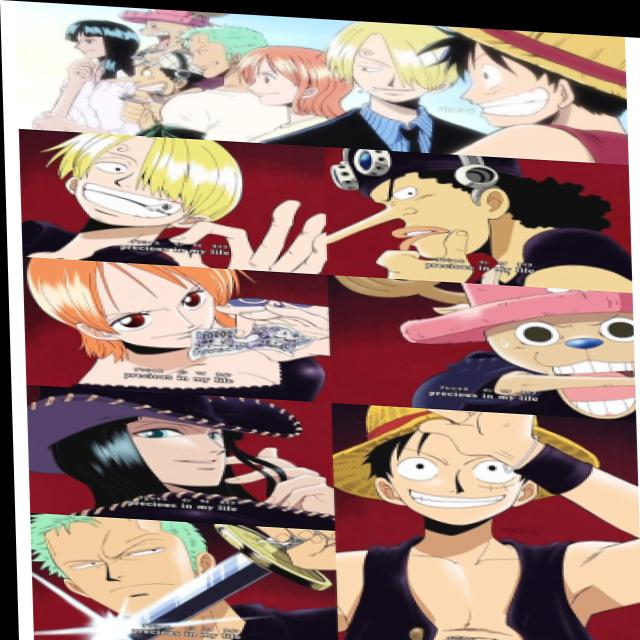Chyopa: (337, 266, 637, 415), (124, 6, 212, 45)
Luffy: (327, 399, 585, 533), (439, 20, 621, 132)
Nami: (22, 256, 279, 363), (236, 39, 347, 115)
NicoRobin: (29, 389, 336, 526), (58, 18, 139, 71)
Sangdi: (35, 131, 253, 232), (318, 15, 452, 92)
Usopp: (315, 145, 501, 258), (114, 40, 188, 111)
Zoro: (27, 511, 226, 632), (177, 21, 266, 79)
